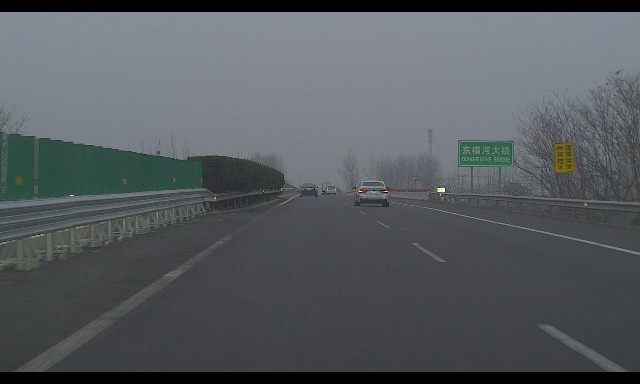car: (353, 181, 390, 207), (299, 183, 318, 197), (326, 186, 337, 195)
truck: (321, 181, 331, 195)
